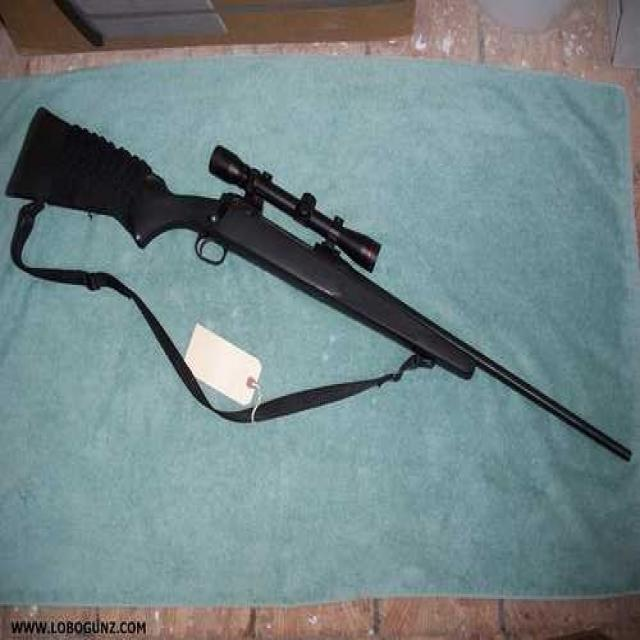weapon: (2, 78, 640, 525)
